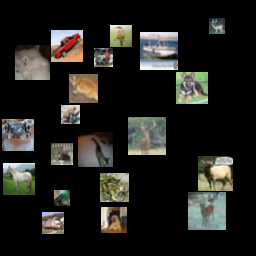airplane: (71, 8, 103, 40), (8, 91, 40, 123)
bird: (28, 131, 60, 163), (166, 123, 192, 149), (175, 151, 197, 173)
cat: (182, 44, 214, 76)
deer: (203, 6, 229, 32)
dog: (73, 64, 102, 93), (118, 136, 147, 165), (156, 87, 178, 109), (155, 44, 174, 63)
frog: (43, 167, 78, 202), (214, 156, 246, 188), (87, 104, 113, 130), (193, 117, 219, 143)
ship: (194, 79, 213, 98), (214, 192, 233, 211)
